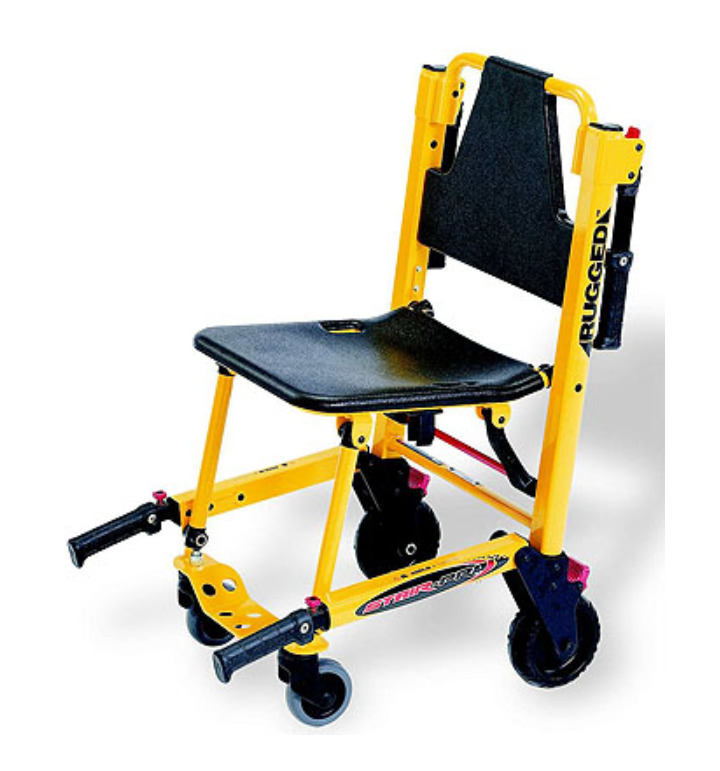chairs: (65, 51, 655, 724)
